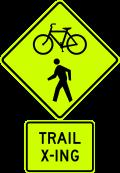Cycle Crossing: (10, 5, 110, 167)
